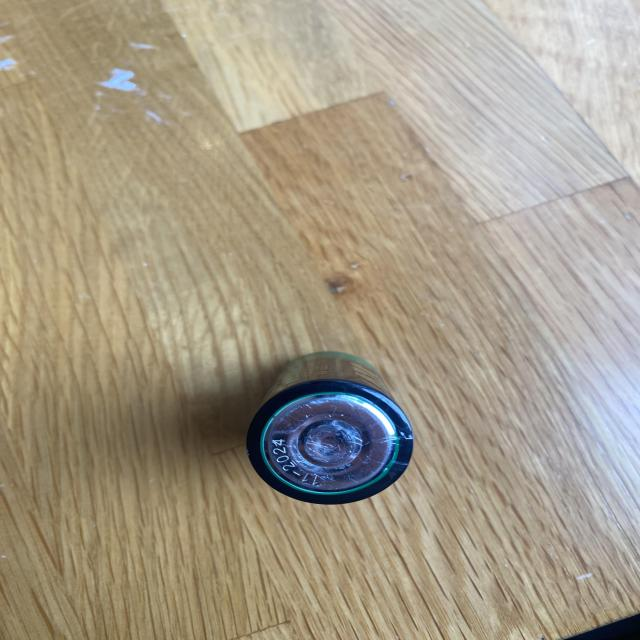AA: (245, 350, 414, 505)
